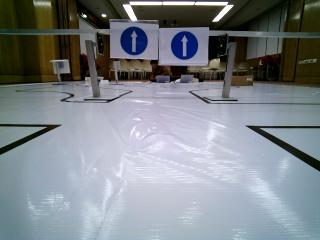straight: (111, 20, 160, 58), (160, 27, 209, 65)
